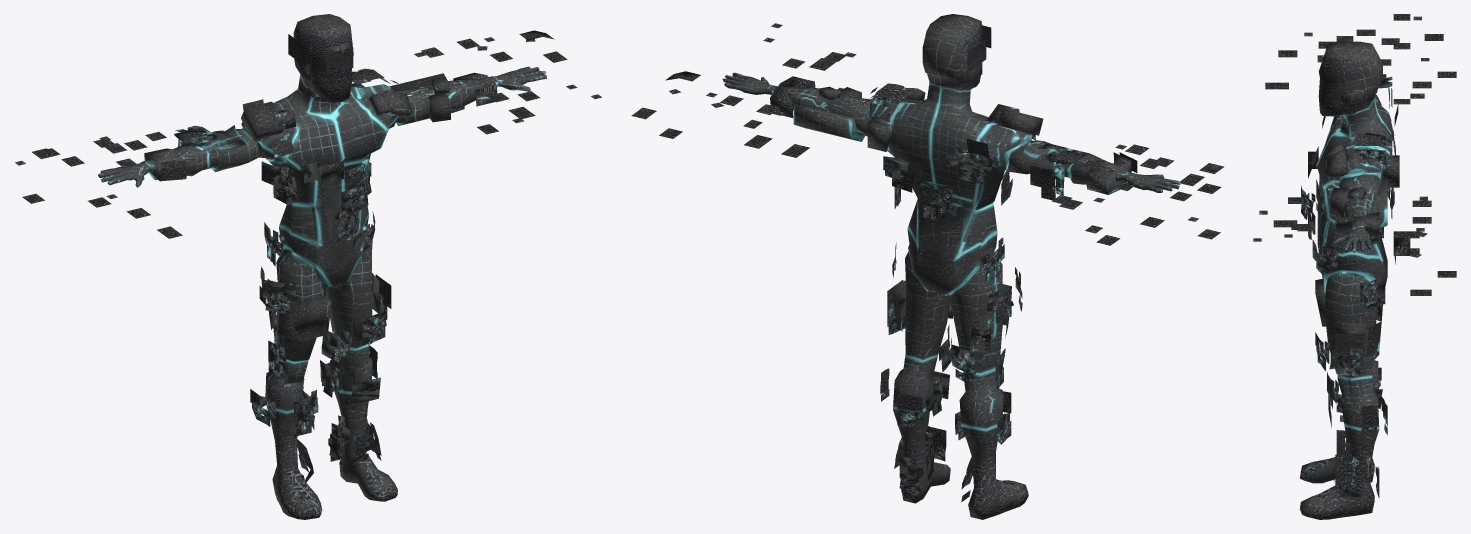
File: 019f4262-880d-7220-9f40-7e28f7ebd564.glb
The picture shows the model from 3 angles, left to right: view 1: azimuth 30°, elevation 25°; view 2: azimuth 150°, elevation 25°; view 3: azimuth 270°, elevation 25°; orthographic projection. The views are drawn at different scales.
Parts seen in each view (by area): view 1: tripo_node_14b88f07-f16d-41a4-ac48-9f890089b029; view 2: tripo_node_14b88f07-f16d-41a4-ac48-9f890089b029; view 3: tripo_node_14b88f07-f16d-41a4-ac48-9f890089b029.
Boxes of the visible parts, bbox=[...] form: tripo_node_14b88f07-f16d-41a4-ac48-9f890089b029: bbox=[15, 14, 601, 519]; tripo_node_14b88f07-f16d-41a4-ac48-9f890089b029: bbox=[631, 14, 1224, 519]; tripo_node_14b88f07-f16d-41a4-ac48-9f890089b029: bbox=[1253, 14, 1456, 519].
Size of the model in its own units: 0.998 by 0.8105 by 0.334.
Materials: 1 (1 with a texture image).
